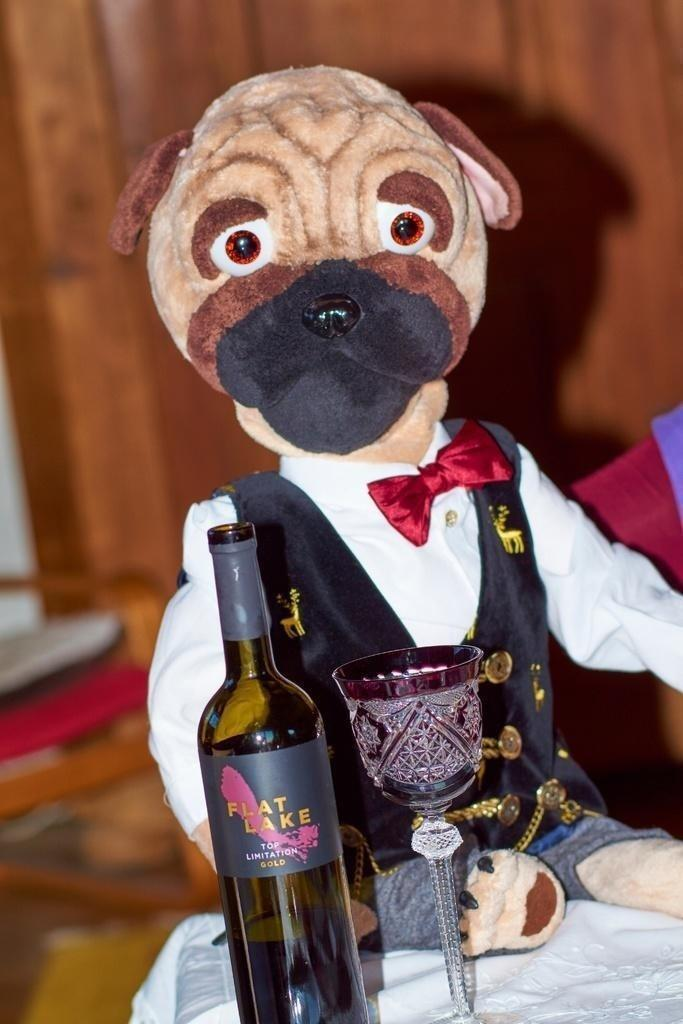bottle-glass: (192, 519, 366, 1021)
glass-wine: (330, 643, 496, 1023)
